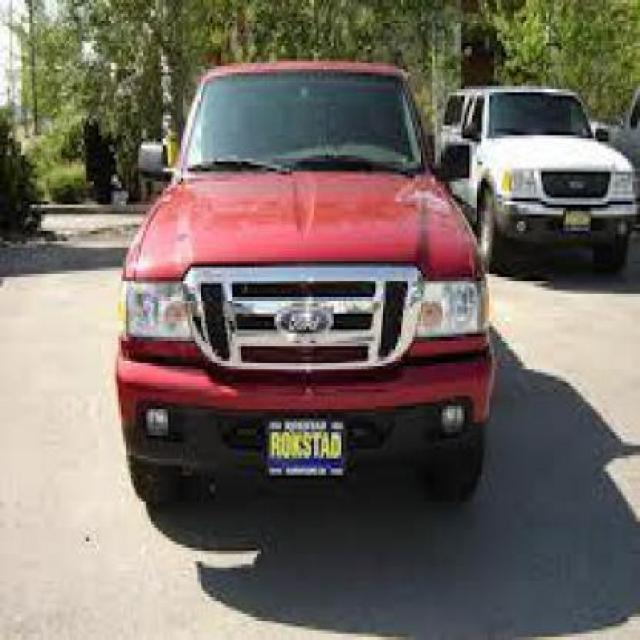vehicle: (109, 55, 496, 533), (448, 77, 638, 266)
